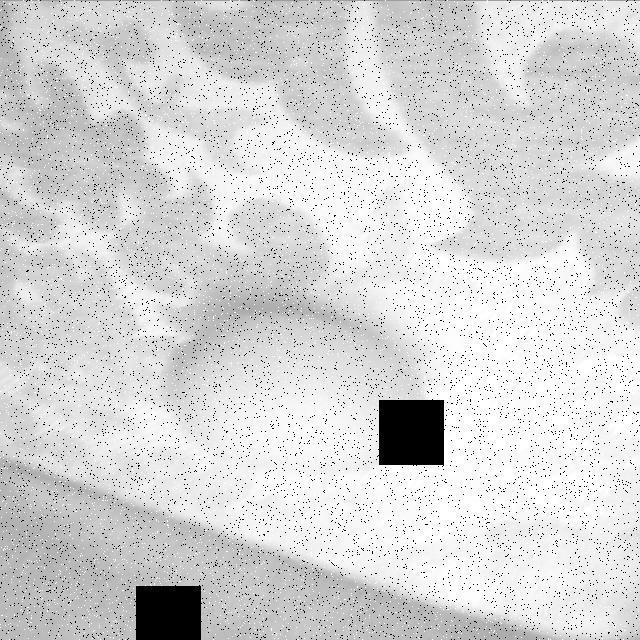egg: (165, 303, 422, 484)
